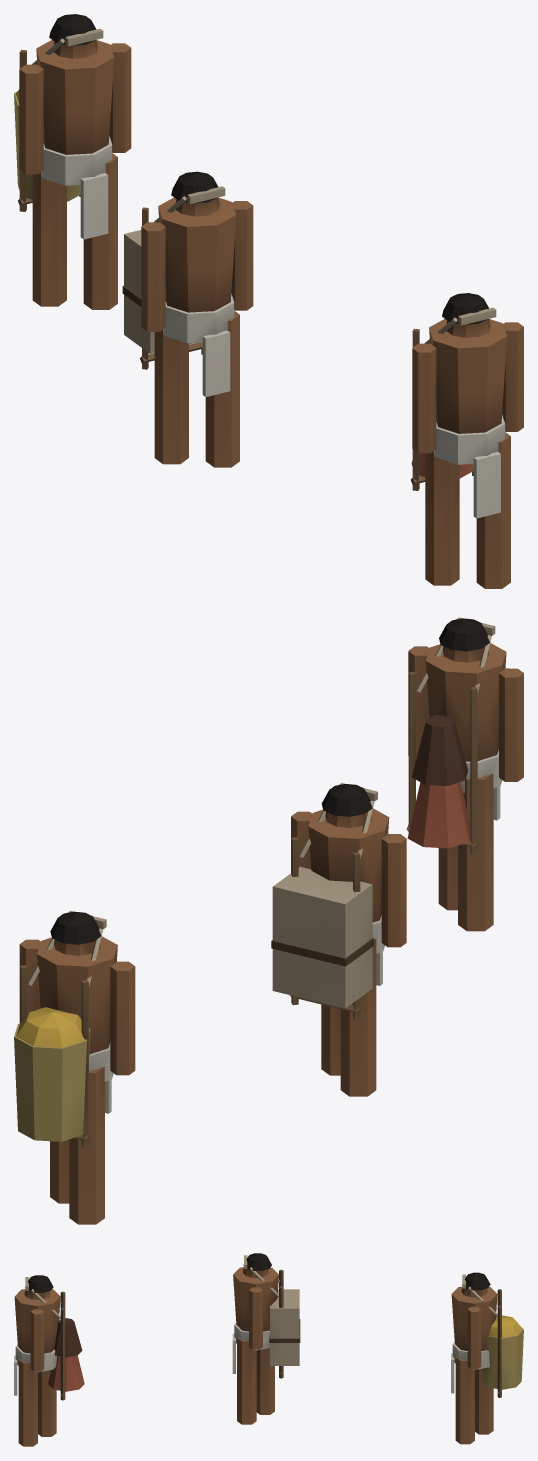
The model's file is cart.glb.
The picture shows the model from 3 angles, top to bottom: view 1: azimuth 30°, elevation 25°; view 2: azimuth 150°, elevation 25°; view 3: azimuth 270°, elevation 25°; orthographic projection. The views are drawn at different scales.
Visible parts, largest first — view 1: base; view 2: base; view 3: base.
Boxes of the visible parts, <box> form: base: <box>14,14,523,588</box>; base: <box>14,617,523,1224</box>; base: <box>14,1253,523,1446</box>.
Size of the model in its own units: 1.05 by 1.56 by 4.43.
